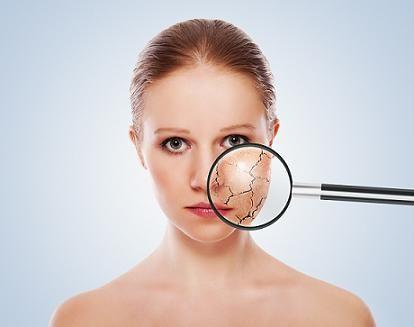Dry-Skin: (211, 147, 273, 227)
